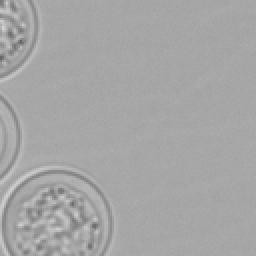picoshell: (0, 164, 114, 254), (0, 94, 22, 184)
